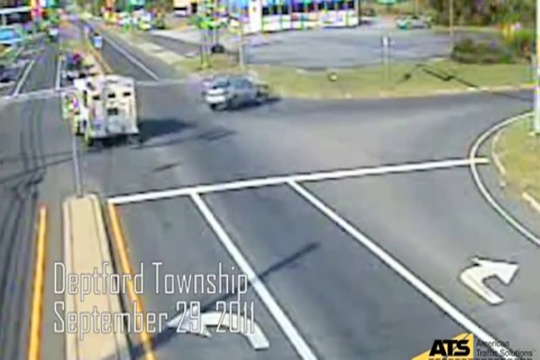car: (73, 65, 141, 158), (195, 72, 270, 105), (58, 58, 92, 78)
